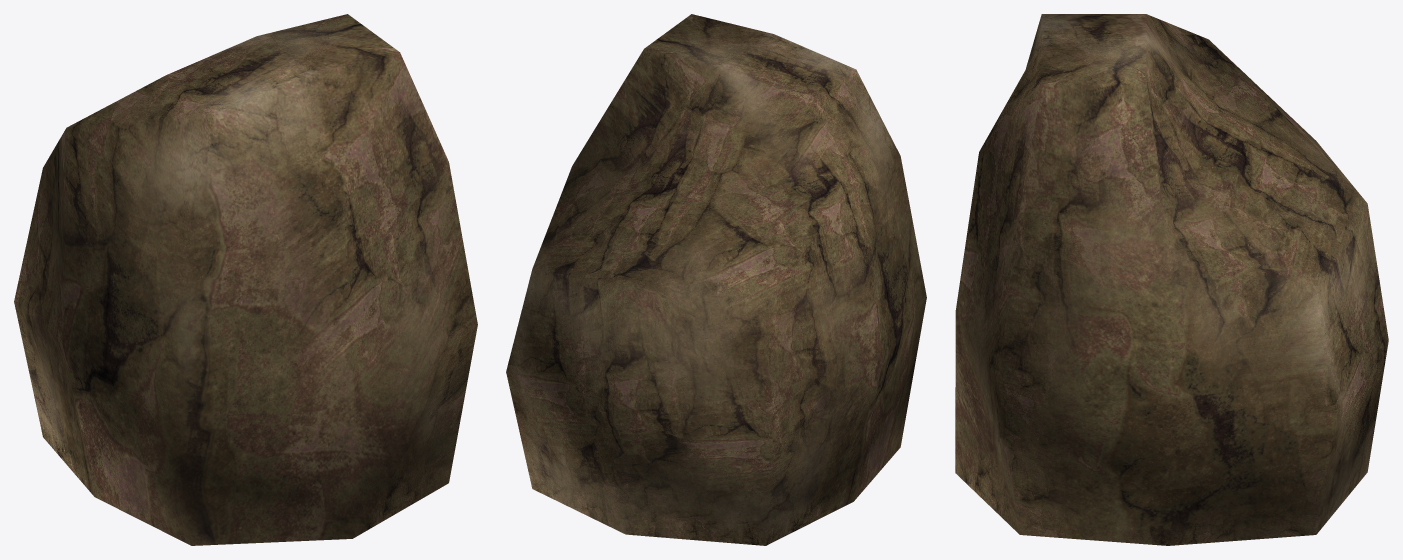
Rendered from Pedra_Grande.fbx.
3 renders of one model, left to right at view 1: azimuth 30°, elevation 25°; view 2: azimuth 150°, elevation 25°; view 3: azimuth 270°, elevation 25°, orthographic. The views are drawn at different scales.
Parts seen in each view (by area): view 1: Pedra Grande; view 2: Pedra Grande; view 3: Pedra Grande.
Part boxes in pixels (bbox=[...]): Pedra Grande: bbox=[14, 14, 477, 545]; Pedra Grande: bbox=[506, 14, 926, 545]; Pedra Grande: bbox=[955, 14, 1388, 545].
Size of the model in its own units: 283 by 321 by 293.
Materials: 1 (1 with a texture image).
